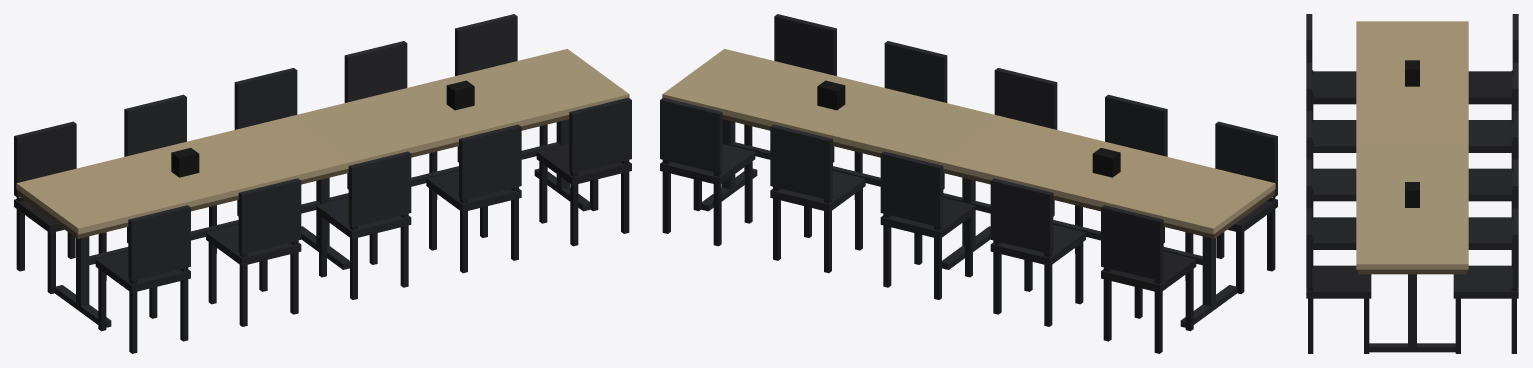
File: table.mess.maple.glb
3 renders of one model, left to right at view 1: azimuth 30°, elevation 25°; view 2: azimuth 150°, elevation 25°; view 3: azimuth 270°, elevation 25°, orthographic. The views are drawn at different scales.
Visible parts, largest first — view 1: table_mess_maple; view 2: table_mess_maple; view 3: table_mess_maple.
Part boxes in pixels (left/top/right/bottom): table_mess_maple: left=14, top=14, right=631, bottom=353; table_mess_maple: left=660, top=14, right=1277, bottom=353; table_mess_maple: left=1306, top=14, right=1518, bottom=353.
Size of what is drawn, in the model's own units: 3.9 by 0.9 by 1.44.
